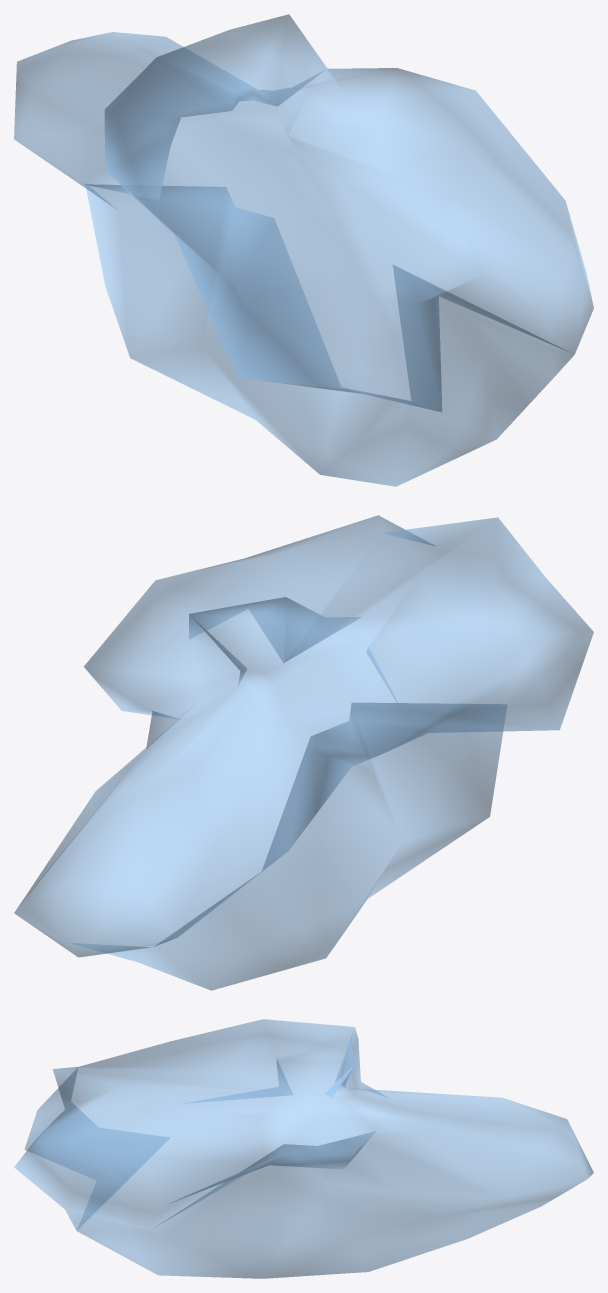
File: ttroop_shield.gltf
3 renders of one model, top to bottom at view 1: azimuth 30°, elevation 25°; view 2: azimuth 150°, elevation 25°; view 3: azimuth 270°, elevation 25°, orthographic. The views are drawn at different scales.
Parts seen in each view (by area): view 1: ttroop.shield; view 2: ttroop.shield; view 3: ttroop.shield.
Boxes of the visible parts, x1=… form: ttroop.shield: x1=14, y1=14, x2=593, y2=486; ttroop.shield: x1=14, y1=515, x2=593, y2=990; ttroop.shield: x1=14, y1=1019, x2=593, y2=1278.
Size of the model in its own units: 6.26 by 5.61 by 13.72.
